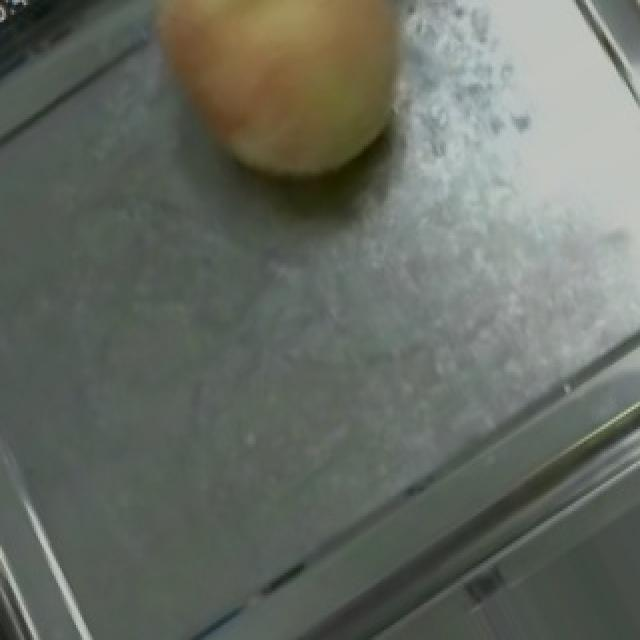Fruit: (112, 0, 444, 223)
